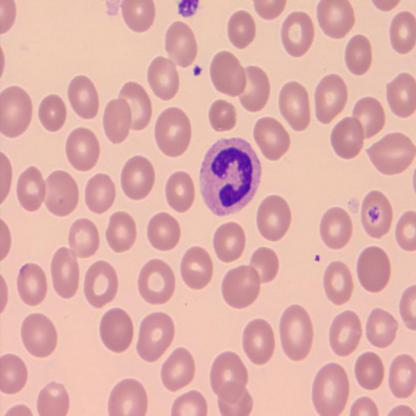Segmented neutrophil: (197, 134, 263, 218)
